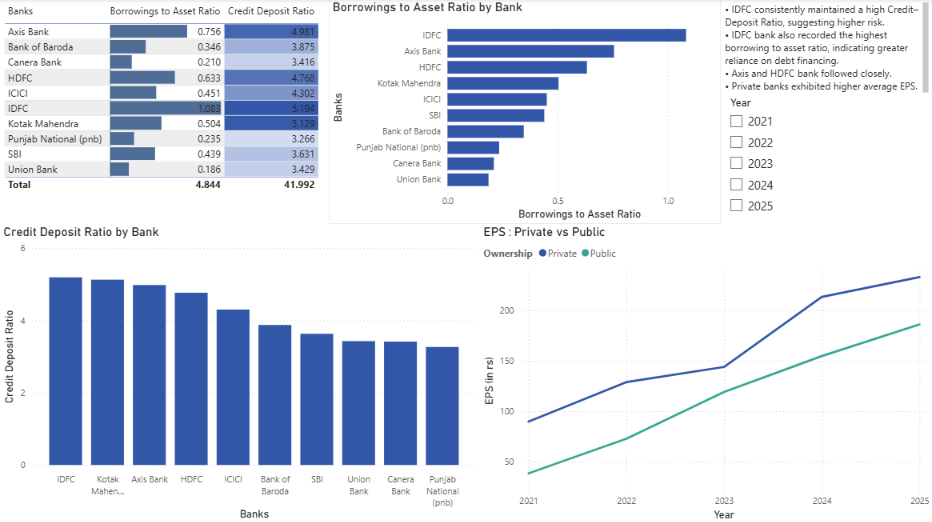

This screenshot's page, from the dashboard's own definition file:
{"tool":"powerbi","page":{"name":"detailed data","canvas":[1280,720],"ordinal":1},"visuals":[{"type":"clusteredColumnChart","title":"Credit Deposit Ratio by Bank","fields":{"Category":["Bank data.Bank_name"],"Y":["Sum(Bank data.Credit_Deposit_Ratio)"]},"box":[0,308.6,658.6,411.4],"z":0},{"type":"clusteredBarChart","title":"Borrowings to Asset Ratio by Bank","fields":{"Category":["Bank data.Bank_name"],"Y":["Sum(Bank data.Borrowings_to_Asset_Ratio)"]},"box":[451.4,0,538.6,308.6],"z":1000},{"type":"lineChart","title":"EPS : Private vs Public","fields":{"Y":["Sum(Bank data.EPS (in rs))"],"Category":["Bank data.Year"],"Series":["Bank data.Type"]},"box":[658.6,308.6,621.4,411.4],"z":2000},{"type":"textbox","box":[990,0,290,141.4],"z":3000},{"type":"tableEx","fields":{"Values":["Bank data.Bank_name","Sum(Bank data.Borrowings_to_Asset_Ratio)","Sum(Bank data.Credit_Deposit_Ratio)"]},"box":[0,0,451.4,308.6],"z":4000},{"type":"slicer","fields":{"Values":["Bank data.Year"]},"box":[990,128.6,290,180],"z":5000}]}

Visuals, with their boxes in screenshot pixels (x1, y1, x2, y2), scaled from the page's 1280x720 canvas onto the 932x522 screenshot:
"Credit Deposit Ratio by Bank" clusteredColumnChart: Rect(0, 224, 480, 521)
"Borrowings to Asset Ratio by Bank" clusteredBarChart: Rect(329, 0, 721, 224)
"EPS : Private vs Public" lineChart: Rect(480, 224, 931, 521)
textbox: Rect(721, 0, 931, 103)
tableEx - Bank data.Bank_name x Sum(Bank data.Borrowings_to_Asset_Ratio): Rect(0, 0, 329, 224)
slicer - Bank data.Year: Rect(721, 93, 931, 224)
